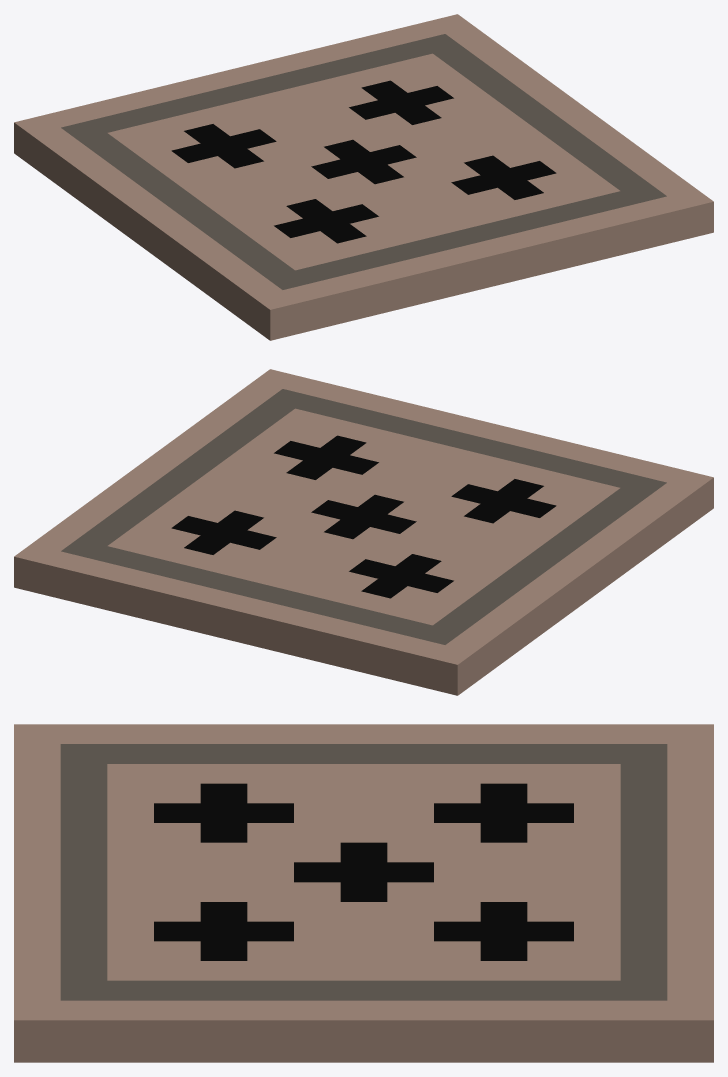
The model's file is dungeon_a_b_ground_b_b.obj.
3 renders of one model, top to bottom at view 1: azimuth 30°, elevation 25°; view 2: azimuth 150°, elevation 25°; view 3: azimuth 270°, elevation 25°, orthographic. The views are drawn at different scales.
Size of the model in its own units: 1.5 by 0.1 by 1.5.
Materials: 1 (1 with a texture image).
